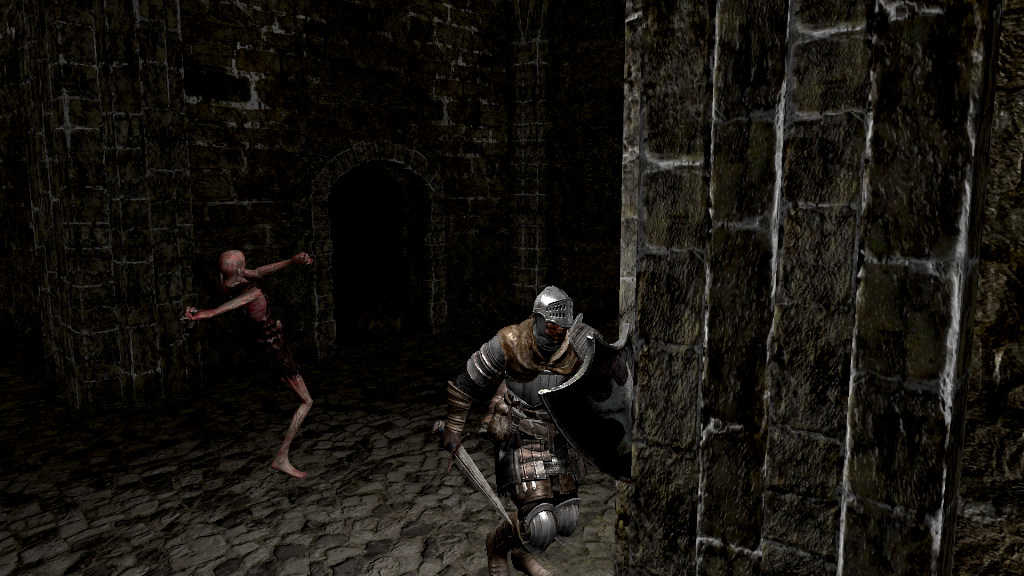hollow: (181, 250, 316, 478)
player: (432, 285, 636, 576)
